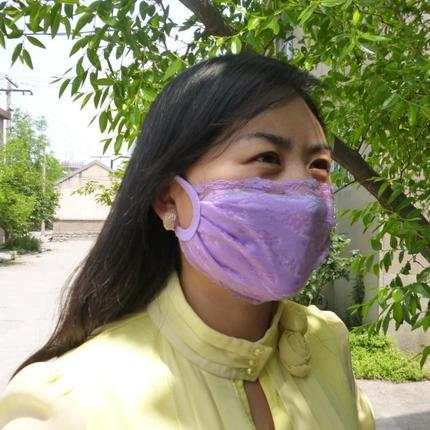OK: (173, 131, 336, 294)
